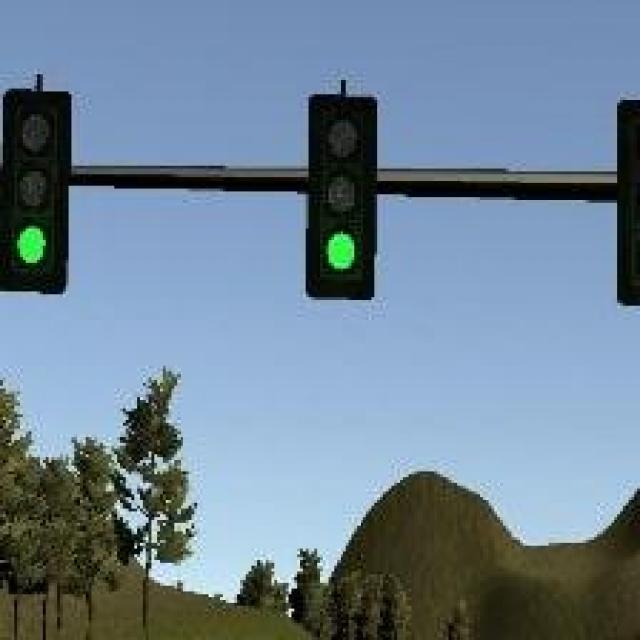green_light: (309, 91, 378, 302), (3, 89, 74, 289)
